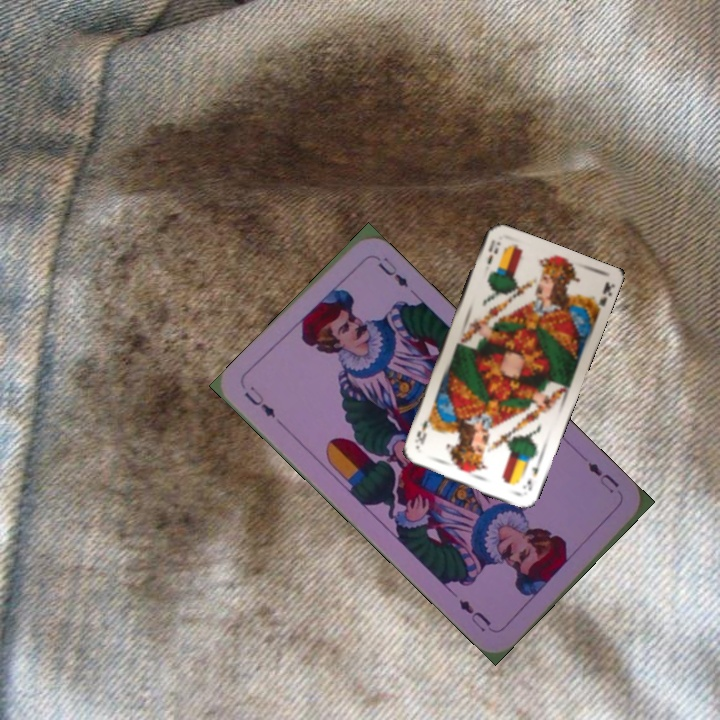EK: (518, 455, 542, 493), (483, 235, 503, 267)
EU: (240, 381, 279, 421), (583, 458, 622, 496)
